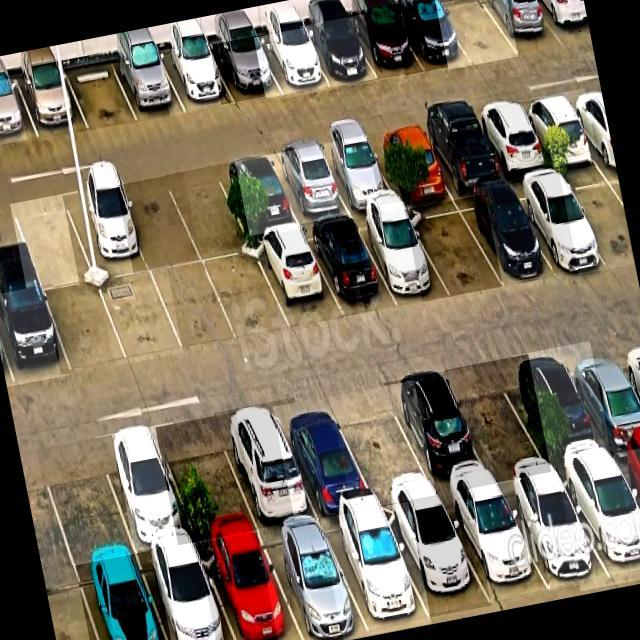empty: (446, 361, 551, 482), (156, 420, 259, 541), (330, 387, 436, 503), (38, 438, 134, 564), (406, 201, 503, 296), (166, 166, 253, 261), (117, 178, 201, 271), (99, 272, 184, 363), (11, 195, 94, 288), (152, 263, 238, 351), (560, 165, 634, 267), (45, 282, 127, 373), (205, 254, 290, 340), (436, 0, 518, 65), (65, 60, 139, 129)
occupied: (321, 508, 432, 636), (385, 372, 496, 495), (258, 521, 369, 640), (382, 498, 492, 617), (499, 473, 610, 590), (441, 484, 550, 603), (215, 403, 318, 528), (96, 428, 196, 551), (273, 398, 375, 516), (513, 349, 613, 468), (197, 532, 304, 640), (557, 458, 640, 584), (509, 174, 608, 273), (139, 543, 235, 640), (456, 190, 553, 285), (253, 229, 343, 330), (562, 341, 640, 456), (305, 219, 397, 316), (355, 210, 450, 303), (63, 186, 149, 281), (76, 554, 167, 640), (0, 288, 71, 385), (216, 155, 301, 236), (418, 115, 505, 193), (269, 146, 351, 223), (316, 137, 399, 212), (367, 126, 451, 199), (473, 103, 553, 178), (520, 94, 598, 167), (348, 5, 424, 79), (393, 0, 472, 71), (301, 18, 377, 87), (159, 46, 235, 113), (112, 53, 186, 121), (16, 69, 88, 137), (254, 30, 330, 94), (210, 38, 281, 102), (484, 0, 564, 53), (0, 78, 38, 145), (535, 0, 591, 45)
